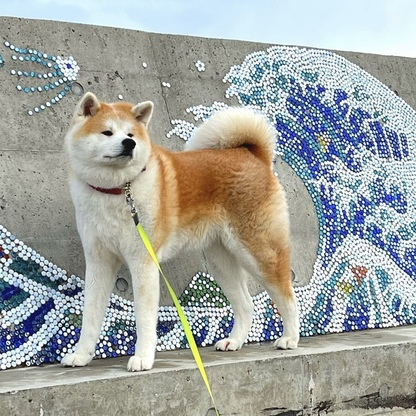akita: (55, 82, 312, 374)
